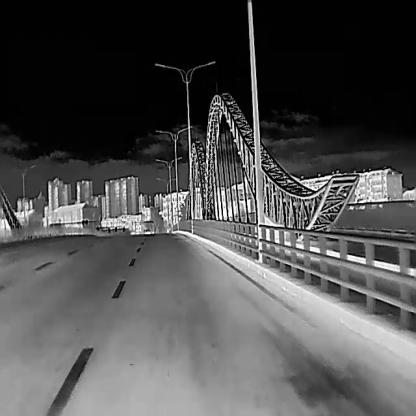car: (144, 227, 151, 233)
